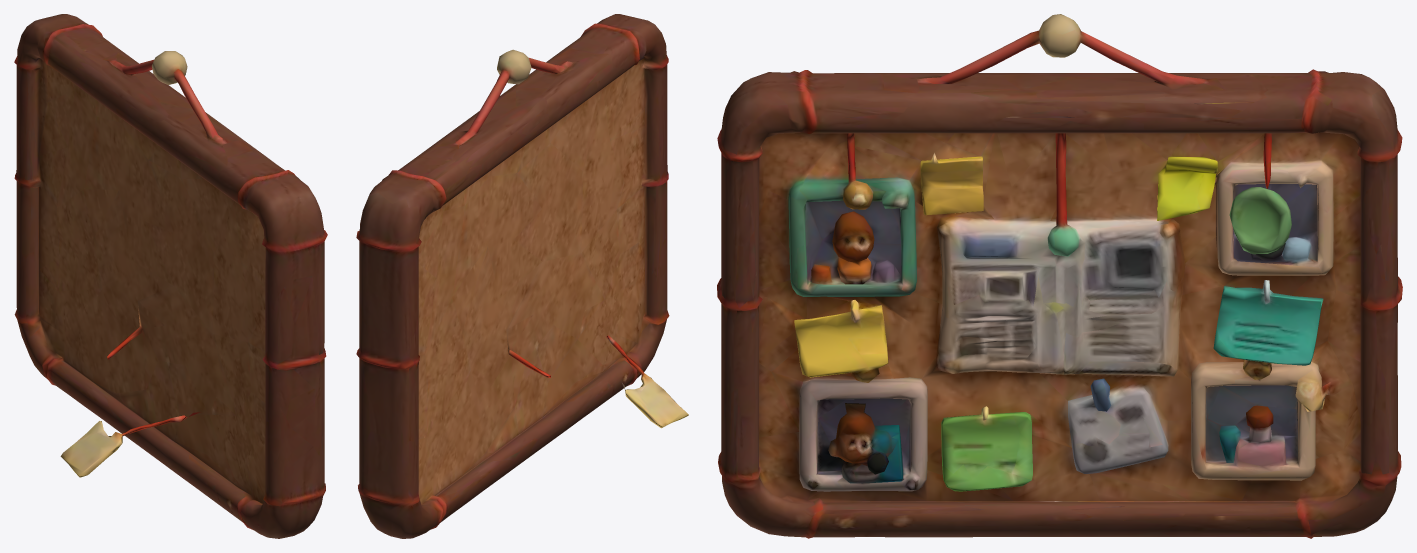
The model's file is deco_board.glb.
The picture shows the model from 3 angles, left to right: view 1: azimuth 30°, elevation 25°; view 2: azimuth 150°, elevation 25°; view 3: azimuth 270°, elevation 25°; orthographic projection. The views are drawn at different scales.
Parts seen in each view (by area): view 1: tripo_node_c7f5d9f4-6d47-448a-a01a-95c73fee39f4; view 2: tripo_node_c7f5d9f4-6d47-448a-a01a-95c73fee39f4; view 3: tripo_node_c7f5d9f4-6d47-448a-a01a-95c73fee39f4.
Part boxes in pixels (<box>): tripo_node_c7f5d9f4-6d47-448a-a01a-95c73fee39f4: <box>14,14,327,538</box>; tripo_node_c7f5d9f4-6d47-448a-a01a-95c73fee39f4: <box>356,14,688,538</box>; tripo_node_c7f5d9f4-6d47-448a-a01a-95c73fee39f4: <box>717,14,1402,538</box>.
Bounding box in the file's own units: 0.4047 × 0.8337 × 1.
1 material, 1 textured.
